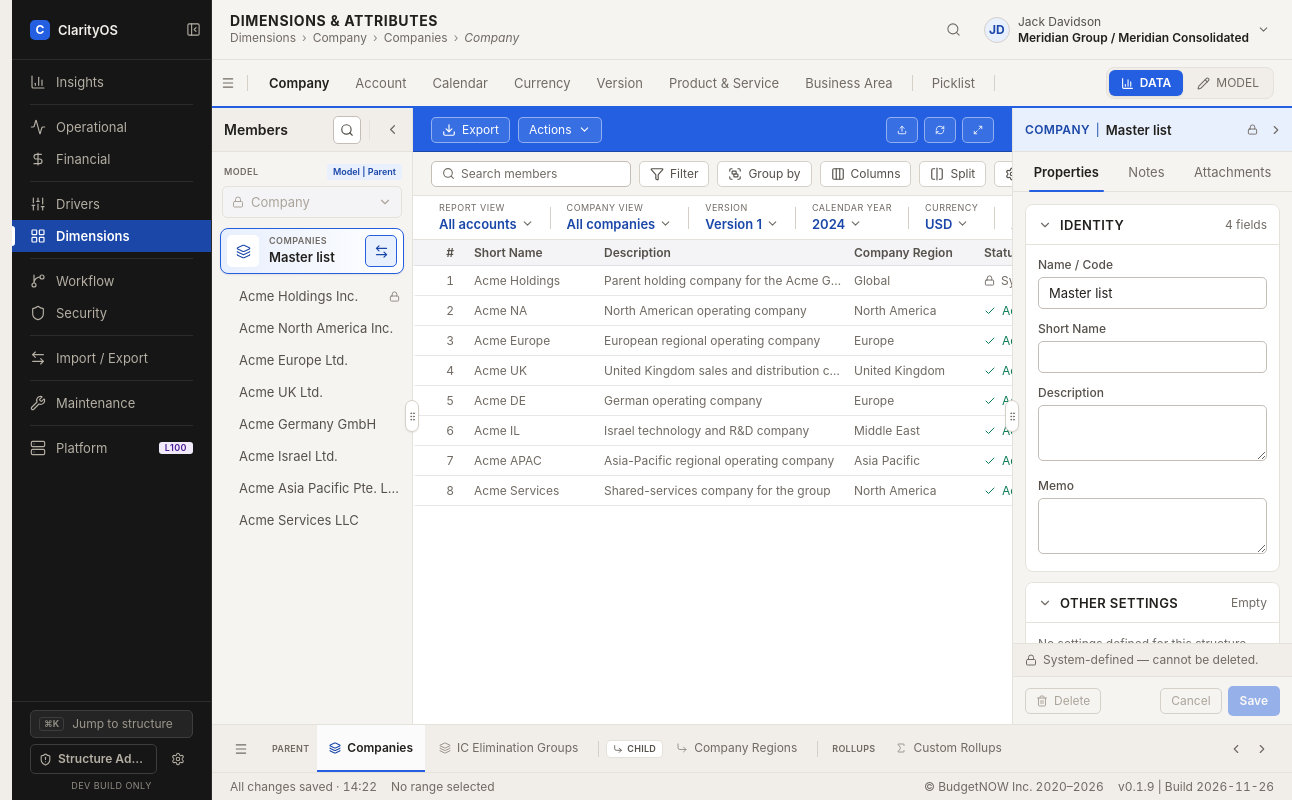
Scenario: Fixture A · Company › DATA: clicking a company opens its own pane and never repeats it as a one-row list
The image size is (1292, 800).
Click the button "Acme Holdings Inc." at (312, 296), box [212,280,412,312]
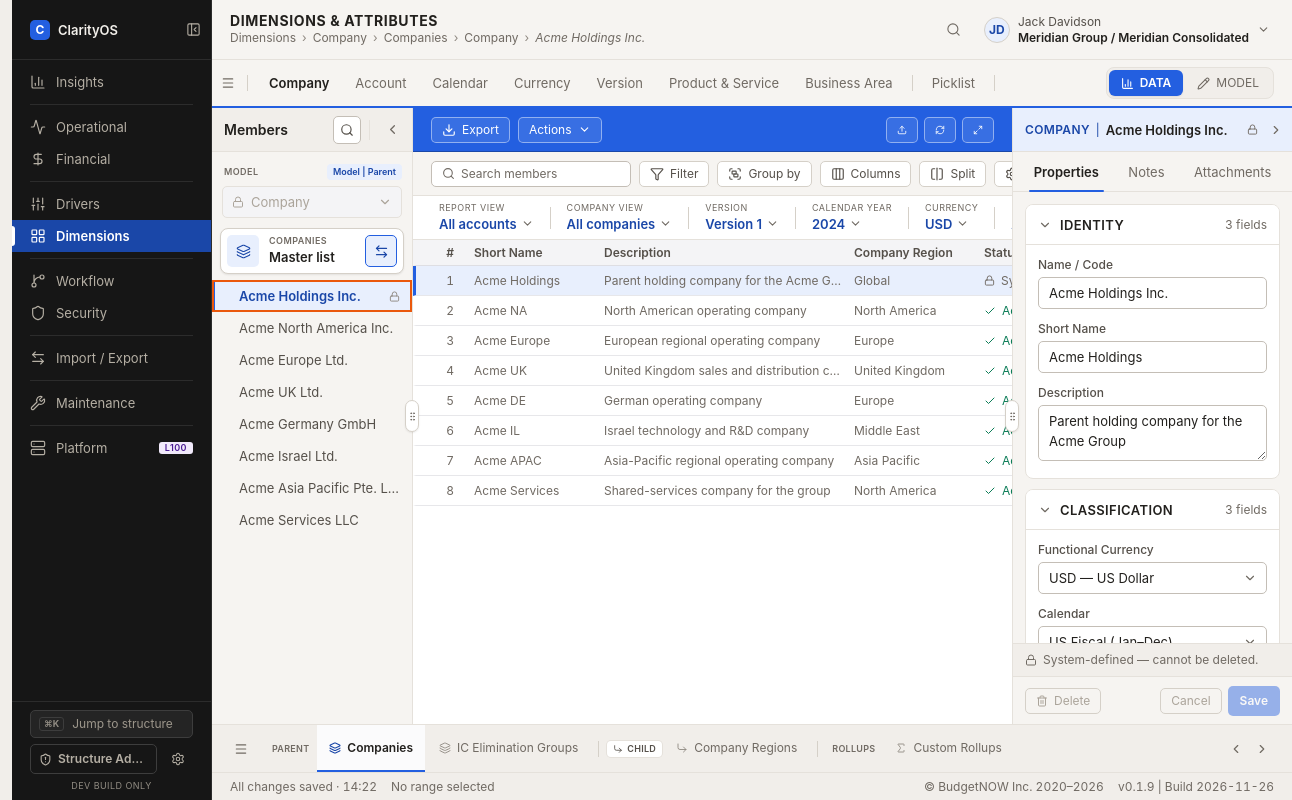
Result: the heading "Acme Holdings Inc." is shown at [1106,120,1241,140]
Result: the navigation bar named "Breadcrumb" reads "Dimensions › Company › Companies › Company › Acme Holdings Inc." at [230,30,645,46]
